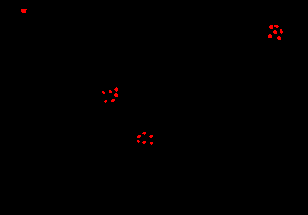Target: (21, 9, 27, 13), (114, 87, 118, 92), (269, 25, 273, 29), (273, 30, 277, 34), (268, 34, 272, 38), (277, 36, 281, 40), (114, 93, 118, 97), (274, 25, 279, 28), (280, 29, 283, 34), (111, 99, 115, 102), (142, 132, 146, 135), (137, 135, 141, 138), (149, 135, 153, 138), (142, 141, 146, 144), (109, 90, 112, 93), (102, 91, 105, 94), (104, 100, 107, 103), (137, 140, 140, 143), (150, 142, 153, 145)
